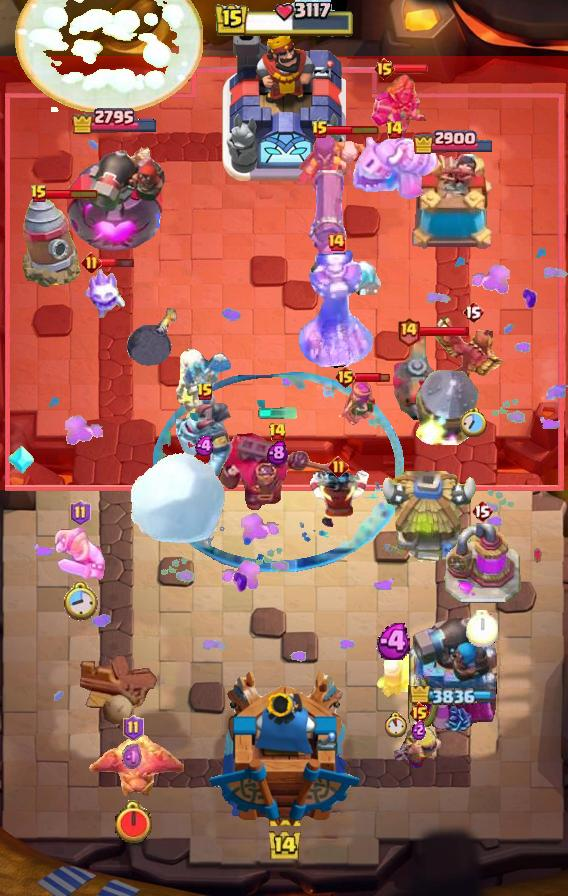arrows: (395, 719, 446, 771)
axe: (298, 135, 368, 197)
baby-dragon: (127, 306, 178, 368)
bat: (339, 261, 385, 295)
battle-healer: (306, 170, 352, 274)
cannon: (335, 379, 381, 429)
clock: (213, 0, 355, 40)
dark-prince: (393, 330, 459, 420)
electro-dragon: (297, 246, 375, 374)
electro-spirit: (376, 623, 415, 661), (122, 743, 144, 771), (268, 439, 289, 464), (195, 436, 217, 456), (412, 719, 426, 741)
elixir: (113, 800, 154, 845), (62, 582, 98, 622), (466, 609, 498, 647), (461, 407, 487, 436), (383, 712, 408, 738)
elixir-golem-small: (176, 403, 234, 481)
emote: (327, 124, 380, 136), (46, 188, 99, 200), (418, 325, 470, 337), (100, 256, 135, 269), (393, 63, 429, 75), (355, 371, 390, 383)
goblin-giant: (53, 524, 107, 580)
golden-knight: (435, 316, 511, 398)
ice-spirit: (256, 407, 298, 419)
inferno-tower: (216, 430, 338, 514)
king-tower: (207, 669, 361, 826), (222, 31, 346, 181)
lumberjack: (303, 469, 373, 529)
magic-archer: (22, 195, 82, 289)
mini-pekka: (173, 345, 235, 427)
mirror: (82, 266, 126, 320)
mother-witch: (82, 732, 184, 802)
night-witch: (349, 131, 439, 203)
pad_0: (150, 370, 404, 572)
pad_2: (7, 444, 35, 476)
pekka: (443, 523, 521, 605)
phoenix-big: (15, 0, 203, 112)
prince: (377, 471, 479, 567)
queen-tower: (405, 154, 501, 256)
selected: (69, 106, 158, 134), (413, 128, 496, 154), (409, 687, 497, 706)
tesla-evolution: (369, 71, 427, 145)
text: (396, 317, 421, 348), (69, 500, 91, 526), (372, 57, 395, 81), (335, 365, 358, 389), (409, 701, 432, 725), (123, 715, 144, 741), (462, 300, 484, 324), (471, 499, 493, 523), (82, 252, 103, 273), (327, 455, 348, 476), (384, 120, 404, 140), (326, 232, 346, 252), (269, 422, 288, 442), (311, 120, 329, 140), (30, 184, 48, 204), (196, 382, 214, 402)
tombstone: (374, 641, 416, 699)
tower-bar: (63, 136, 165, 256), (407, 611, 499, 731)
wall-breaker: (129, 451, 226, 546)
x-bow: (416, 367, 479, 445)
